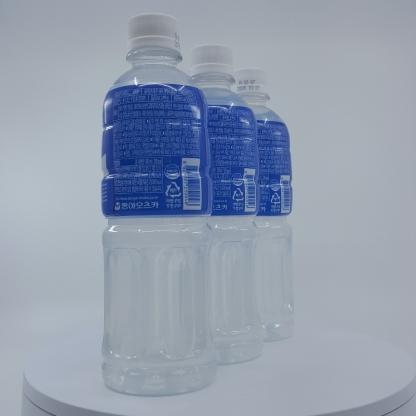--------500ML: (101, 12, 216, 397), (165, 43, 261, 365)
